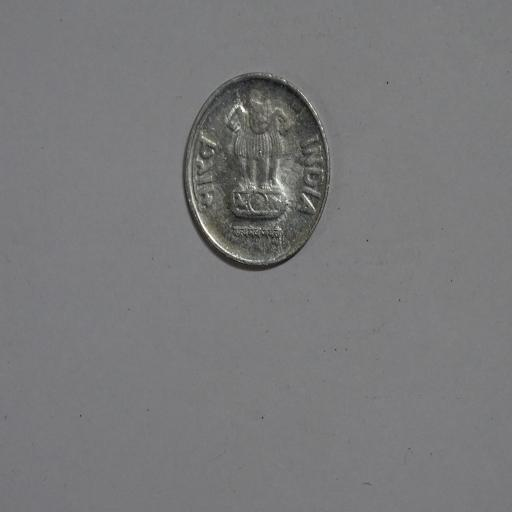rupee1: (180, 74, 330, 267)
